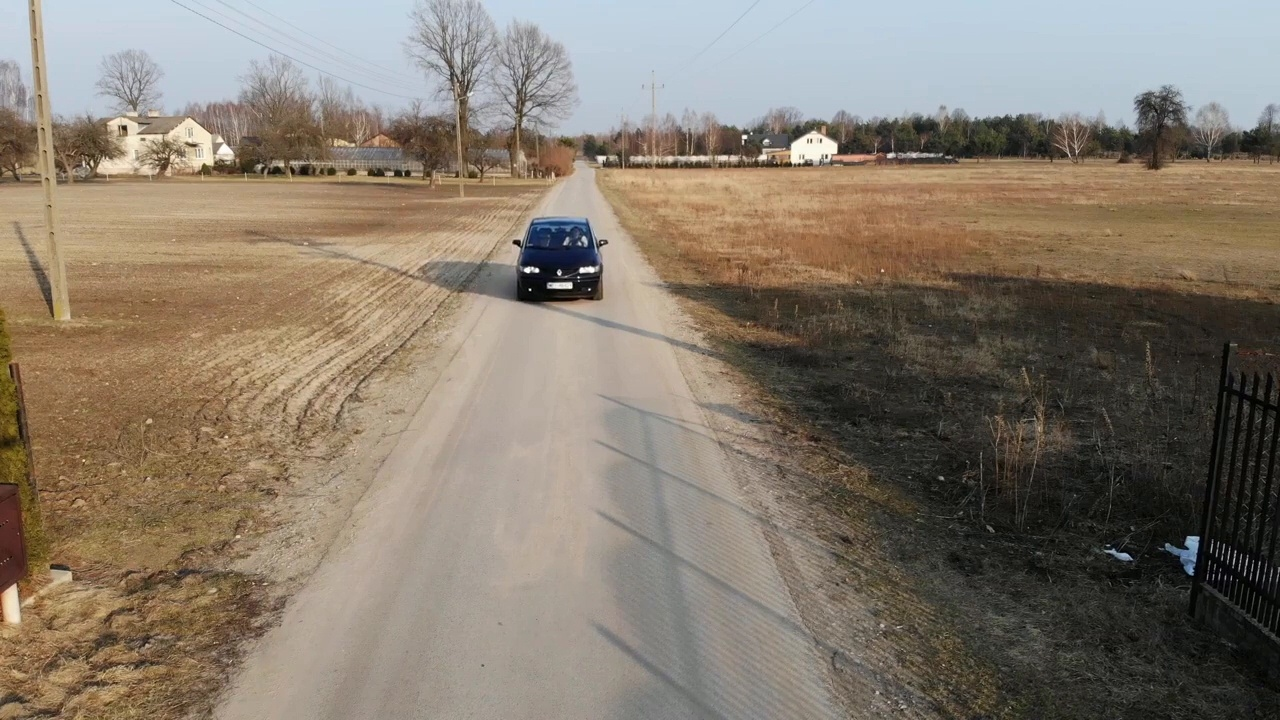araba: (513, 214, 606, 299)
